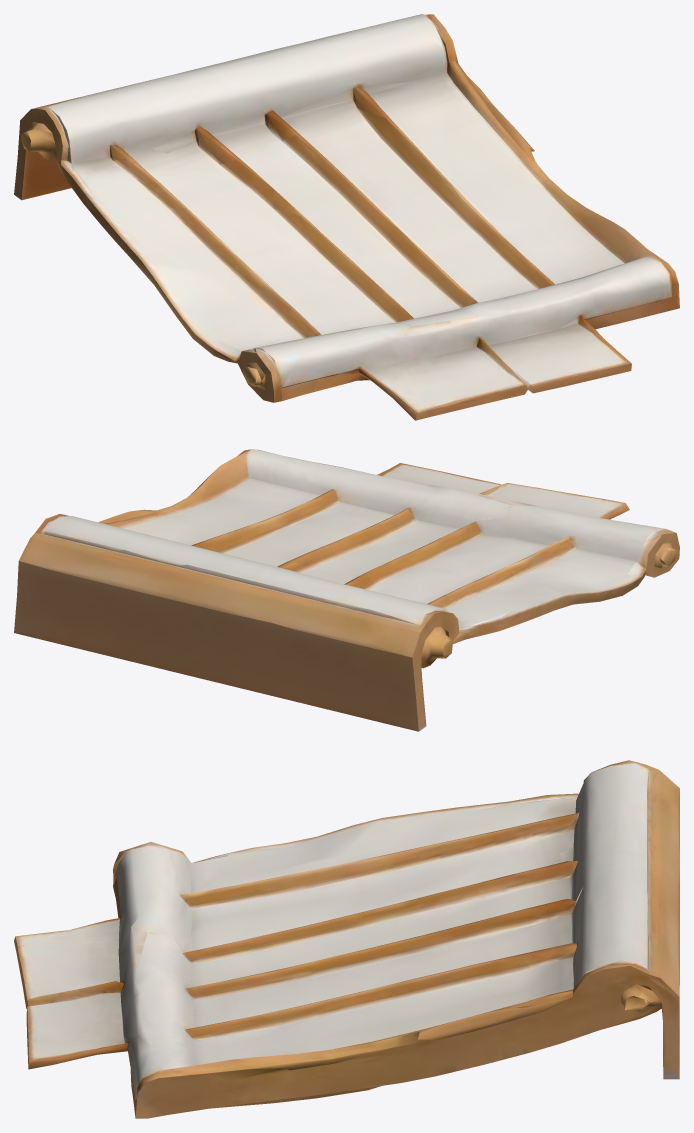
The model's file is m2SnowJumpRamp.glb.
3 views of the same model, one above another, from view 1: azimuth 30°, elevation 25°; view 2: azimuth 150°, elevation 25°; view 3: azimuth 270°, elevation 25° (orthographic). The views are drawn at different scales.
Visible parts, largest first — view 1: model; view 2: model; view 3: model.
Boxes of the visible parts, box(x1,y1,x2,y2) form: model: box(14, 14, 679, 420); model: box(14, 449, 679, 731); model: box(14, 760, 679, 1118).
Bounding box in the file's own units: 1.53 × 0.4599 × 1.89.
Materials: 1 (1 with a texture image).
